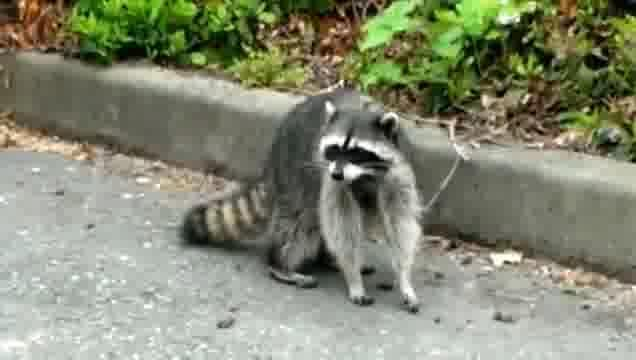raccoon: (180, 94, 424, 313)
